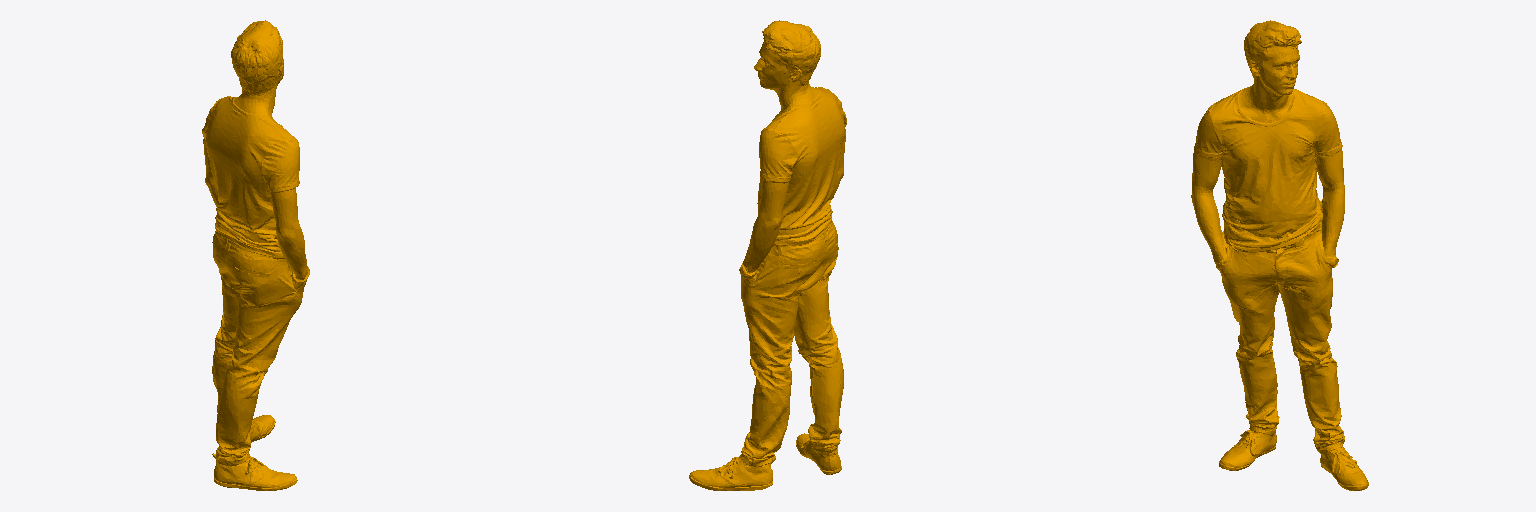
URDF robot description (phd):
<?xml version="1.0" ?>
<robot name="phd">
  <!-- A cool PhD student: young man in blue t-shirt. -->

  <link name="phd_footprint">
    <inertial>
      <mass value="75" />
      <origin xyz="0 0 0.9" />
      <inertia ixx="1" ixy="0" ixz="0" iyy="1" iyz="0" izz="1" />
    </inertial>
    <collision>
      <origin xyz="0 0 0.9" rpy="0 0 -1.57" />
      <geometry>
        <cylinder radius="0.25" length="1.8" />
      </geometry>
    </collision>
    <visual>
      <origin xyz="0 -0.4 0" rpy="1.571 0 1.571" />
      <geometry>
        <mesh filename="package://tiago_bartender_world/meshes/man_phd.dae" scale="0.0254 0.0254 0.0254"/>
      </geometry>
    </visual>
  </link>

</robot>

--- What the picture shows (computed from the rendered views, not written in the file) ---
The picture shows the robot from 3 angles, left to right: view 1: azimuth 30°, elevation 25°; view 2: azimuth 150°, elevation 25°; view 3: azimuth 270°, elevation 25°; orthographic projection.
Model phd with 1 links and 0 joints (none), rooted at phd_footprint, posed all joints at 0.
Links seen in each view (by area): view 1: phd_footprint; view 2: phd_footprint; view 3: phd_footprint.
Link boxes in pixels (x1,y1,x2,y2): phd_footprint: (202,20,309,490); phd_footprint: (689,20,846,490); phd_footprint: (1191,20,1368,490).
Bounding box of the posed robot: 0.4339 × 0.6337 × 1.76 m (x, y, z).
1 mesh visuals loaded from 1 distinct referenced files (1 Collada DAE).
